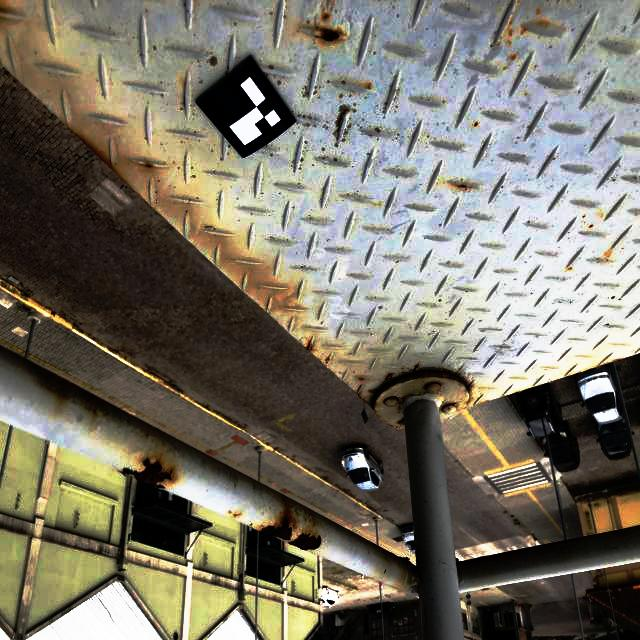Corrosion: (119, 454, 175, 489), (254, 503, 297, 541), (73, 133, 112, 169), (288, 530, 322, 550), (321, 29, 342, 43), (303, 343, 312, 352), (142, 164, 153, 170), (385, 373, 392, 382), (322, 13, 329, 22), (458, 184, 468, 187), (511, 54, 515, 60), (474, 121, 478, 127), (399, 420, 403, 425), (522, 28, 527, 32), (233, 514, 242, 516), (509, 30, 512, 36), (325, 358, 329, 362), (414, 366, 418, 370)
